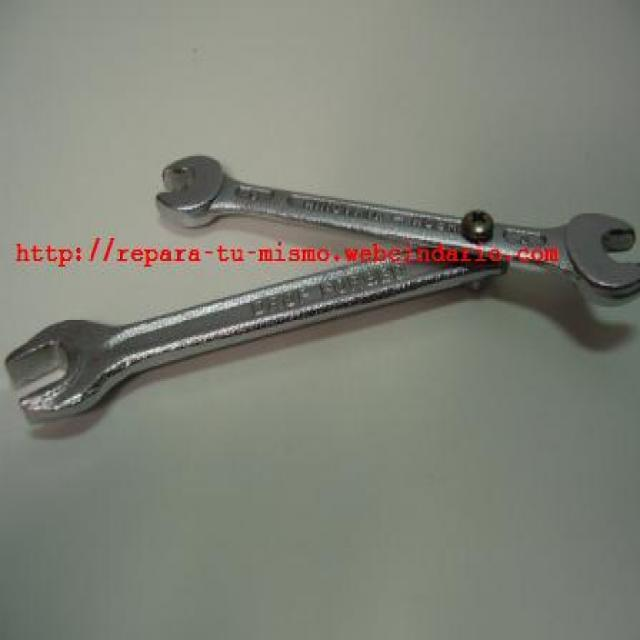wrench: (0, 230, 506, 446), (145, 151, 640, 301)
